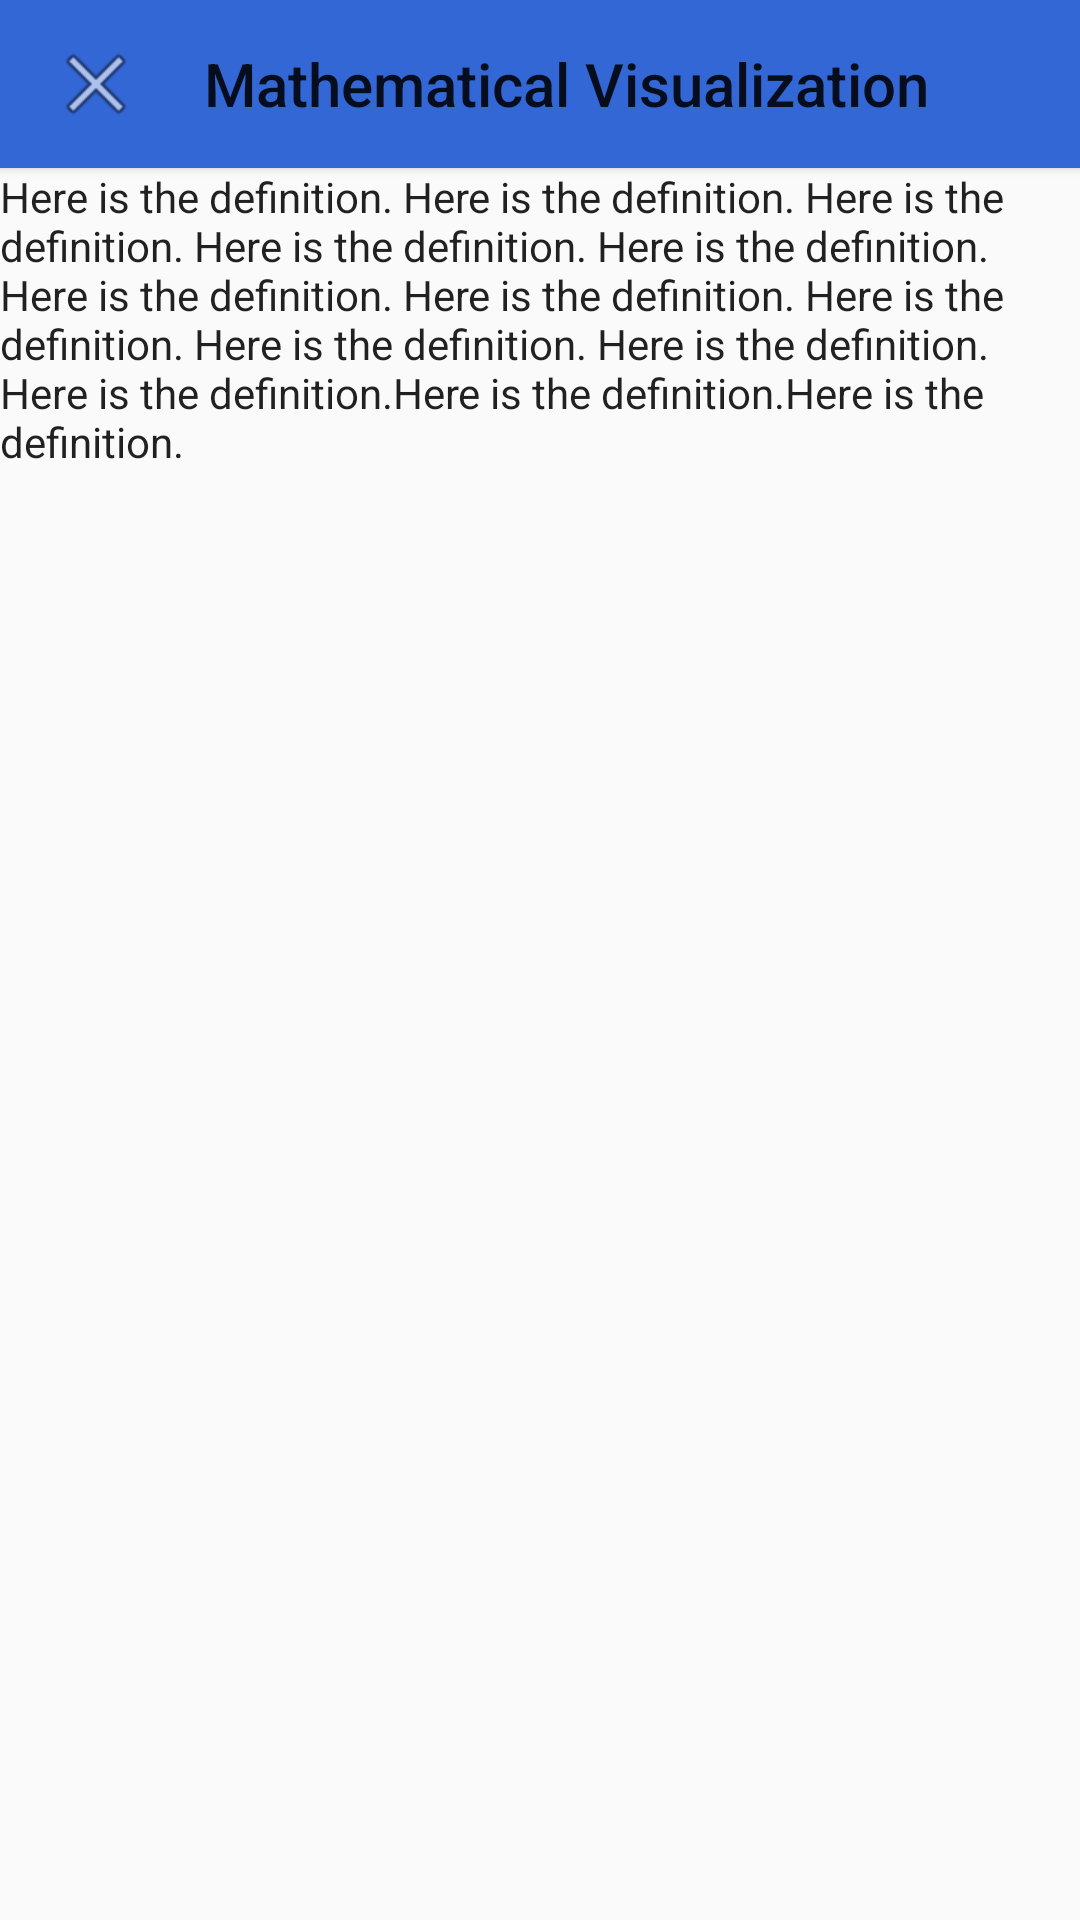

Where icons sit on this 1080*1920 app screen, as (x1, y1, x2, y2):
close clear cancel: (66, 54, 126, 114)
